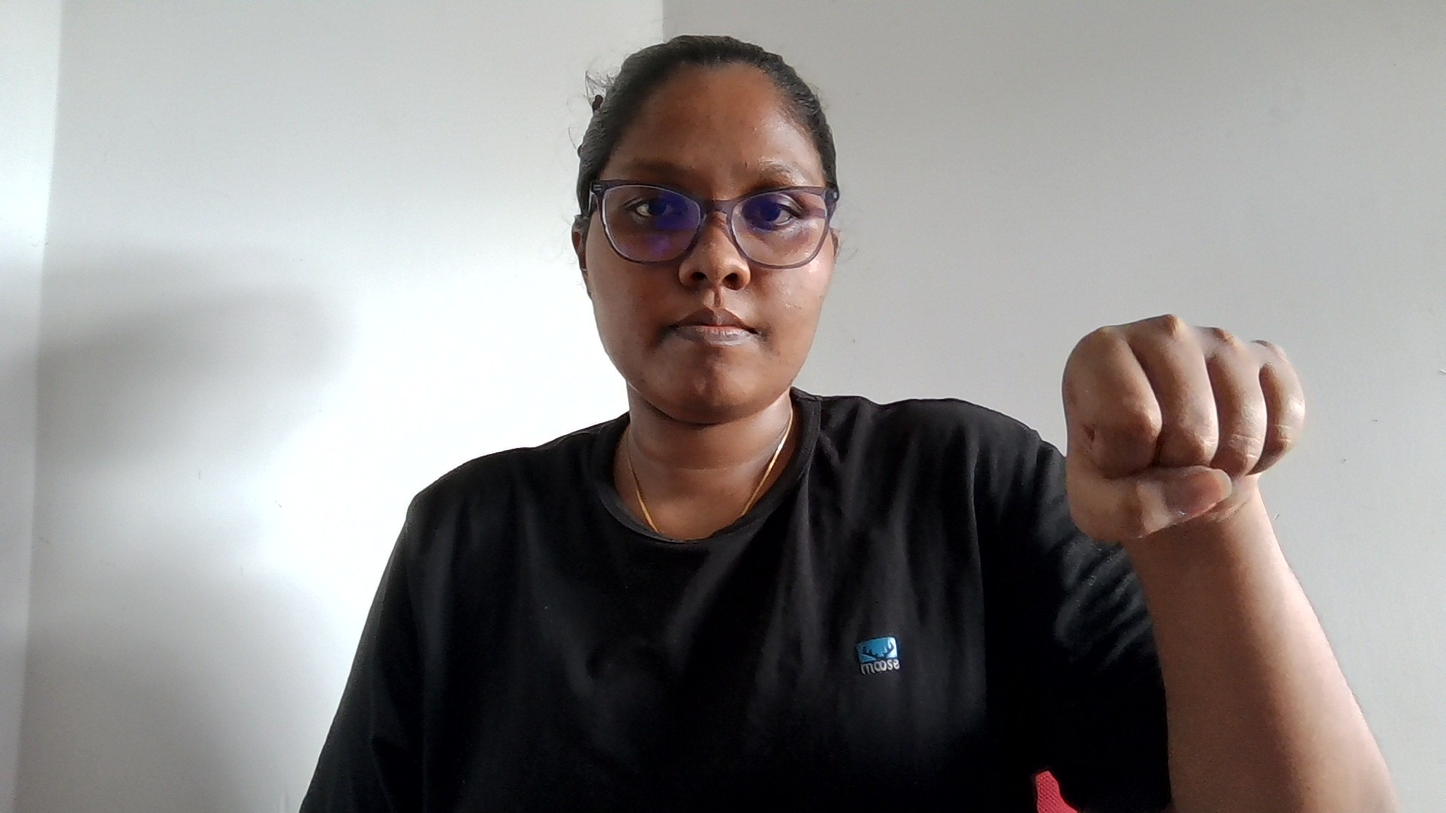Yes: (1005, 262, 1358, 617)
